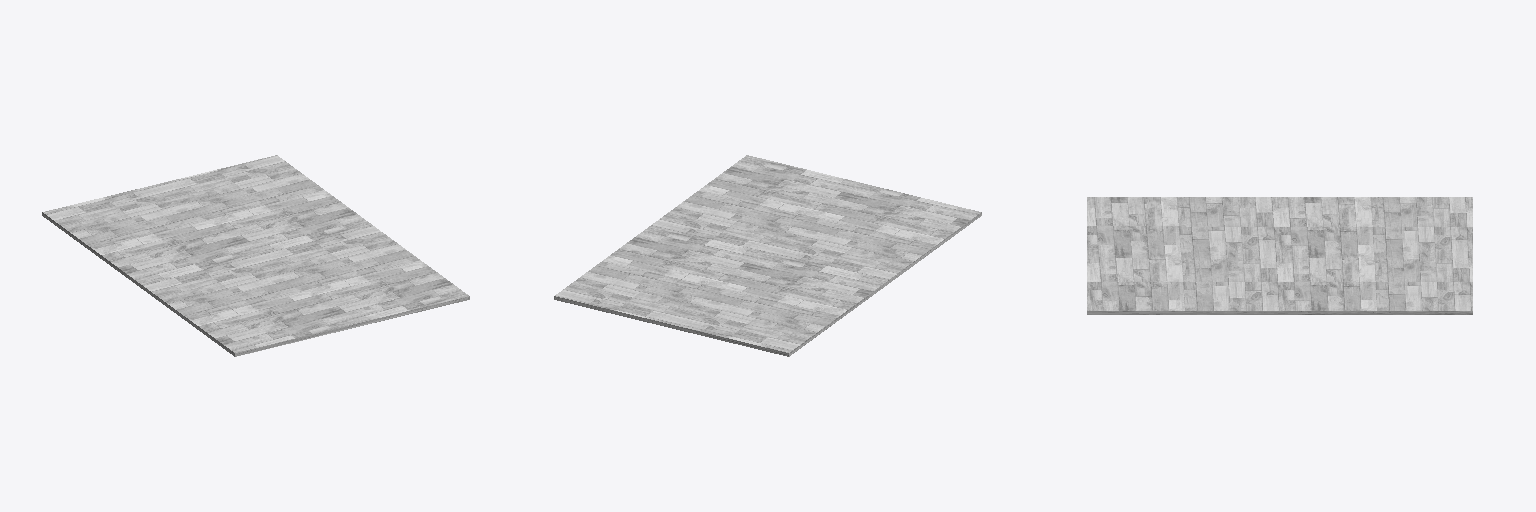
3 views of the same model, side by side, from view 1: azimuth 30°, elevation 25°; view 2: azimuth 150°, elevation 25°; view 3: azimuth 270°, elevation 25° (orthographic).
Visible parts, largest first — view 1: Floor; view 2: Floor; view 3: Floor.
Boxes of the visible parts, x1,y1,x2,y2 form: Floor: [42, 155, 469, 356]; Floor: [554, 155, 981, 356]; Floor: [1087, 197, 1472, 314].
Bounding box in the file's own units: 22.49 × 0.347 × 32.
1 materials, 1 textured.